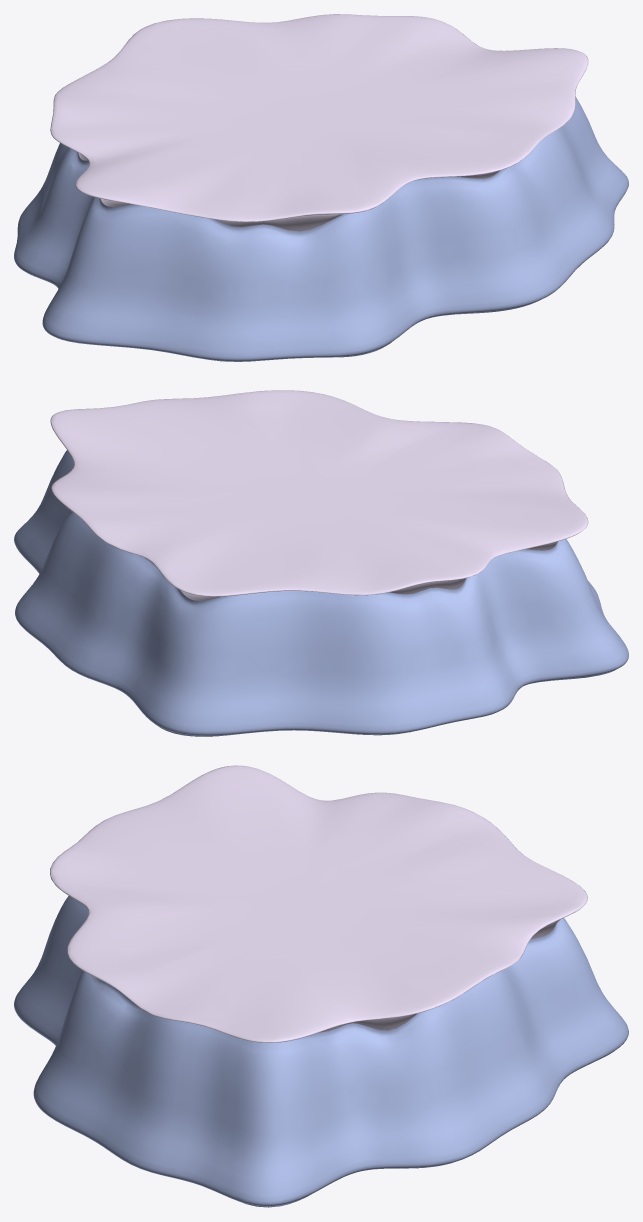
File: recipe-snow-shelf.glb
3 views of the same model, one above another, from view 1: azimuth 30°, elevation 25°; view 2: azimuth 150°, elevation 25°; view 3: azimuth 270°, elevation 25° (orthographic). The views are drawn at different scales.
Visible parts, largest first — view 1: Recipe snow sugar cap, Recipe blue ice cliff; view 2: Recipe snow sugar cap, Recipe blue ice cliff; view 3: Recipe snow sugar cap, Recipe blue ice cliff.
Boxes of the visible parts, <box> form: Recipe snow sugar cap: <box>50,14,588,231</box>; Recipe blue ice cliff: <box>14,96,628,361</box>; Recipe snow sugar cap: <box>50,390,588,600</box>; Recipe blue ice cliff: <box>14,450,628,736</box>; Recipe snow sugar cap: <box>50,765,587,1042</box>; Recipe blue ice cliff: <box>14,896,628,1207</box>.
Size of the model in its own units: 13.49 by 2.94 by 11.07.
